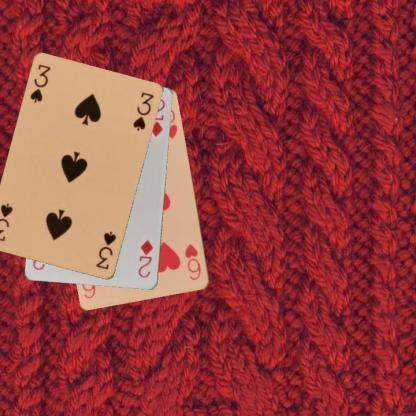2d: (136, 237, 155, 280)
3s: (93, 229, 118, 271), (27, 62, 52, 104)
6h: (182, 242, 203, 282)
